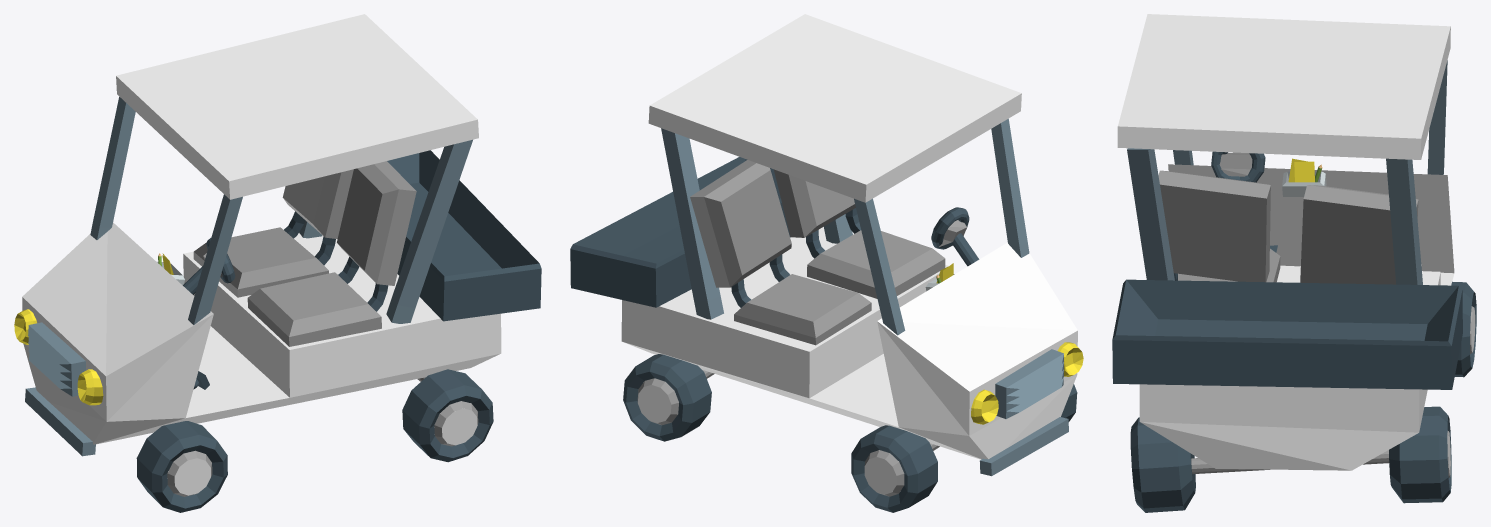
Rendered from cart.glb.
3 views of the same model, side by side, from view 1: azimuth 30°, elevation 25°; view 2: azimuth 150°, elevation 25°; view 3: azimuth 270°, elevation 25° (orthographic). The views are drawn at different scales.
Visible parts, largest first — view 1: Node; view 2: Node; view 3: Node.
Boxes of the visible parts, box(x1,y1,x2,y2) form: Node: box(14, 14, 541, 512); Node: box(570, 14, 1083, 512); Node: box(1112, 14, 1476, 512).
Size of the model in its own units: 2.46 by 1.9 by 1.61.
